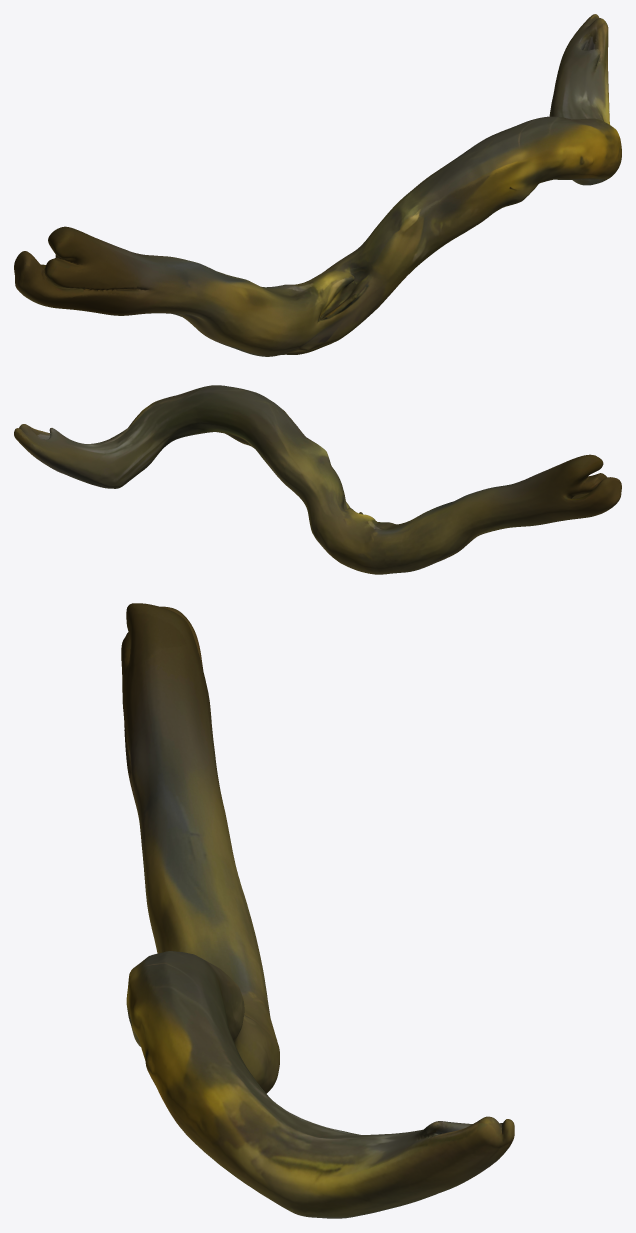
The model's file is bone fragment 3d model.glb.
The picture shows the model from 3 angles, top to bottom: view 1: azimuth 30°, elevation 25°; view 2: azimuth 150°, elevation 25°; view 3: azimuth 270°, elevation 25°; orthographic projection. The views are drawn at different scales.
Parts seen in each view (by area): view 1: tripo_node_9537702b-407d-463d-b799-917077687831; view 2: tripo_node_9537702b-407d-463d-b799-917077687831; view 3: tripo_node_9537702b-407d-463d-b799-917077687831.
Boxes of the visible parts, x1,y1,x2,y2 form: tripo_node_9537702b-407d-463d-b799-917077687831: (14,14,621,356); tripo_node_9537702b-407d-463d-b799-917077687831: (14,385,621,574); tripo_node_9537702b-407d-463d-b799-917077687831: (121,603,514,1218).
Bounding box in the file's own units: 1 × 0.2743 × 0.3295.
1 material, 1 textured.
